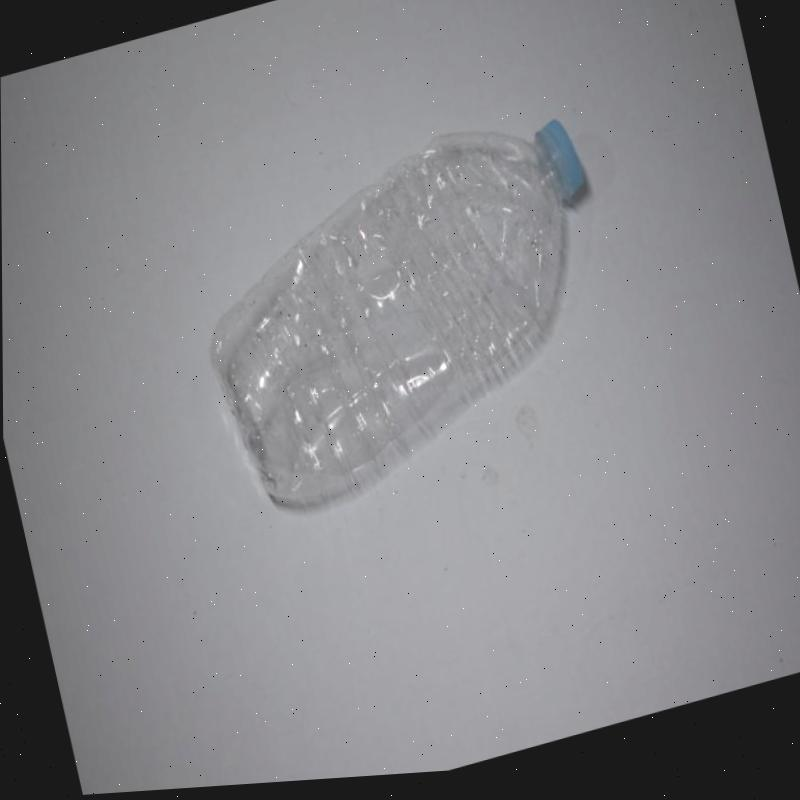botella: (174, 99, 644, 543)
